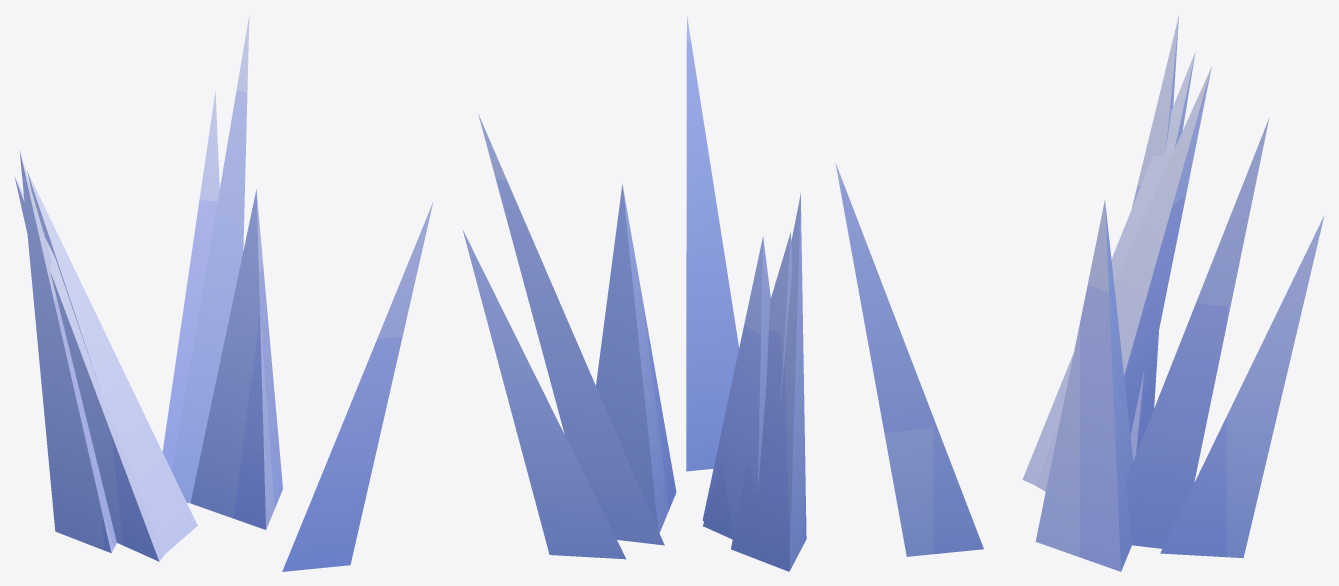
File: nature.grass_tuft.glb
3 views of the same model, side by side, from view 1: azimuth 30°, elevation 25°; view 2: azimuth 150°, elevation 25°; view 3: azimuth 270°, elevation 25° (orthographic). The views are drawn at different scales.
Parts seen in each view (by area): view 1: kit_grass; view 2: kit_grass; view 3: kit_grass.
Boxes of the visible parts, box(x1,y1,x2,y2) form: kit_grass: box(14, 16, 433, 571); kit_grass: box(463, 16, 806, 571); kit_grass: box(835, 15, 1324, 571).
Bounding box in the file's own units: 0.2252 × 0.3341 × 0.3131.
1 material, 1 textured.
